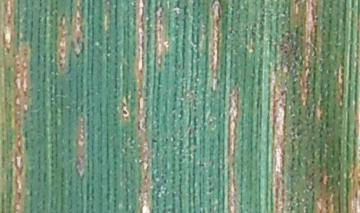tarspot: (120, 108, 130, 118), (151, 138, 159, 145)
